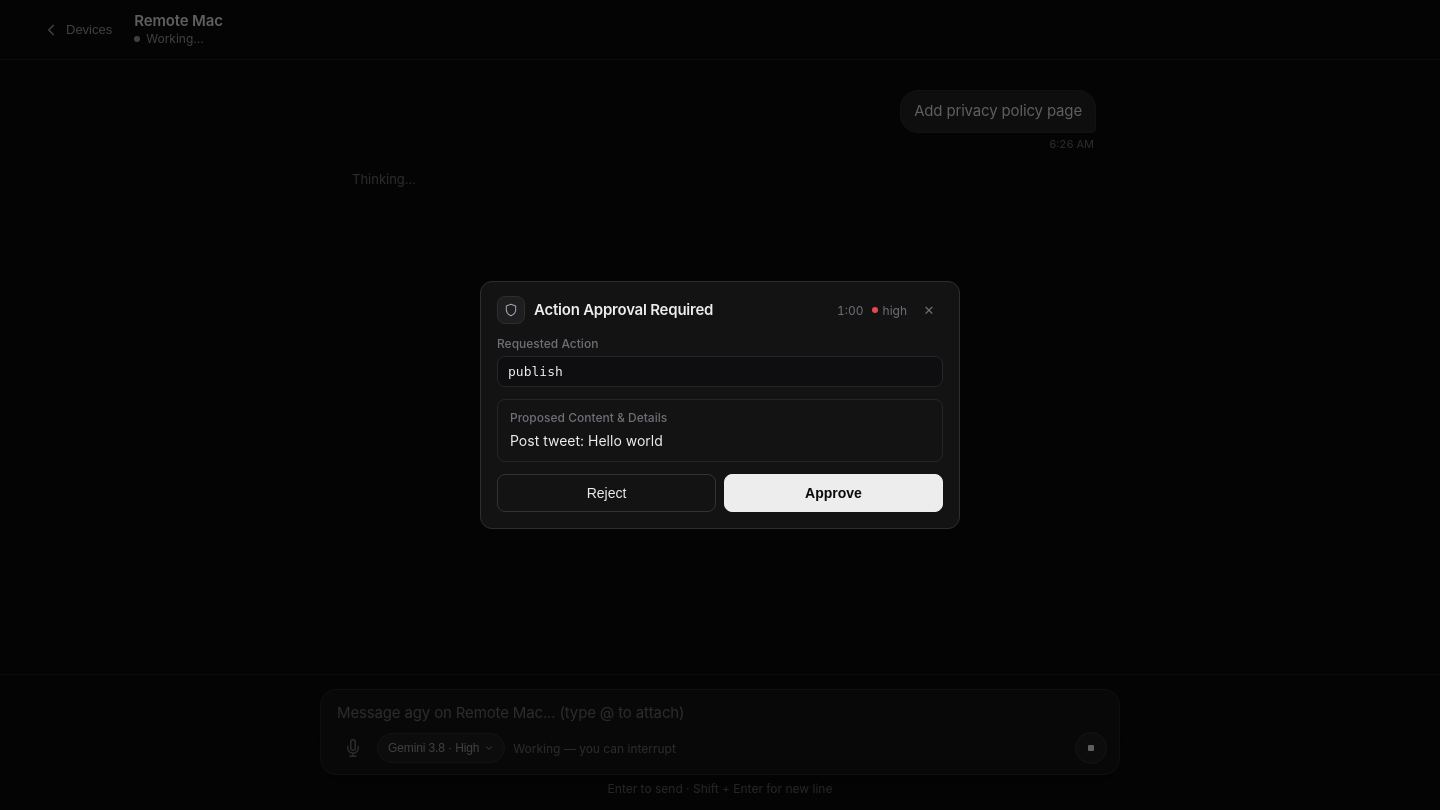
it: Web App Workflow › dismisses approval sheet and displays error message when decideApproval fails with expired error
Click the button with test id "approve-approval-btn": (834, 493) x1=724 y1=474 x2=943 y2=512
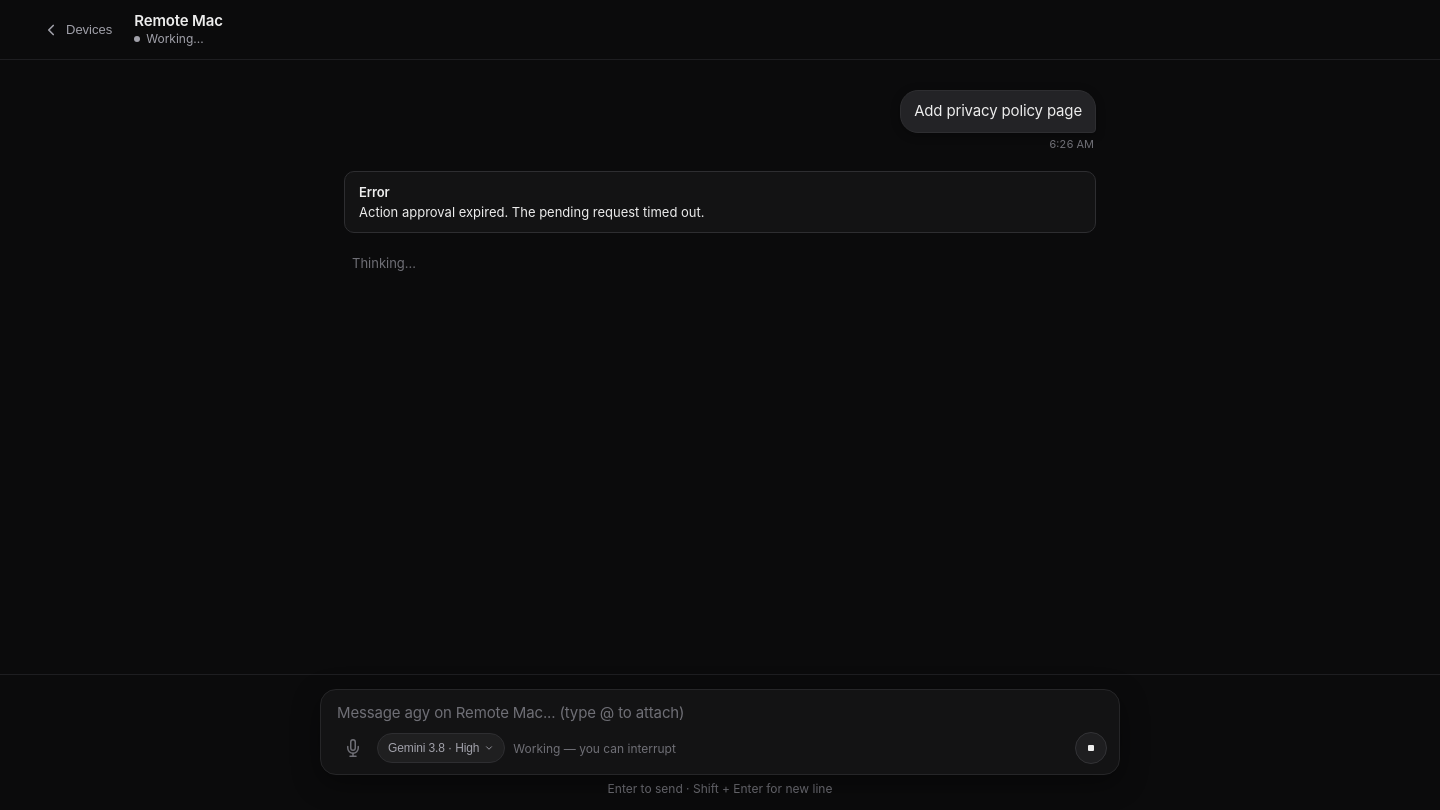
Expected: the dialog with test id "approval-sheet" is gone
Expected: the text "Action approval expired. The pending request timed out." is shown, x1=359 y1=204 x2=704 y2=220
